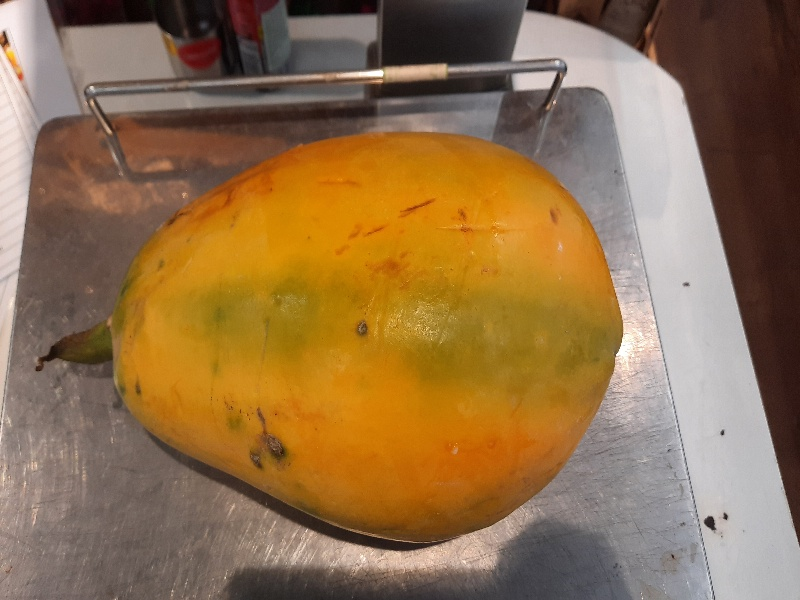fruit: (28, 132, 630, 553)
